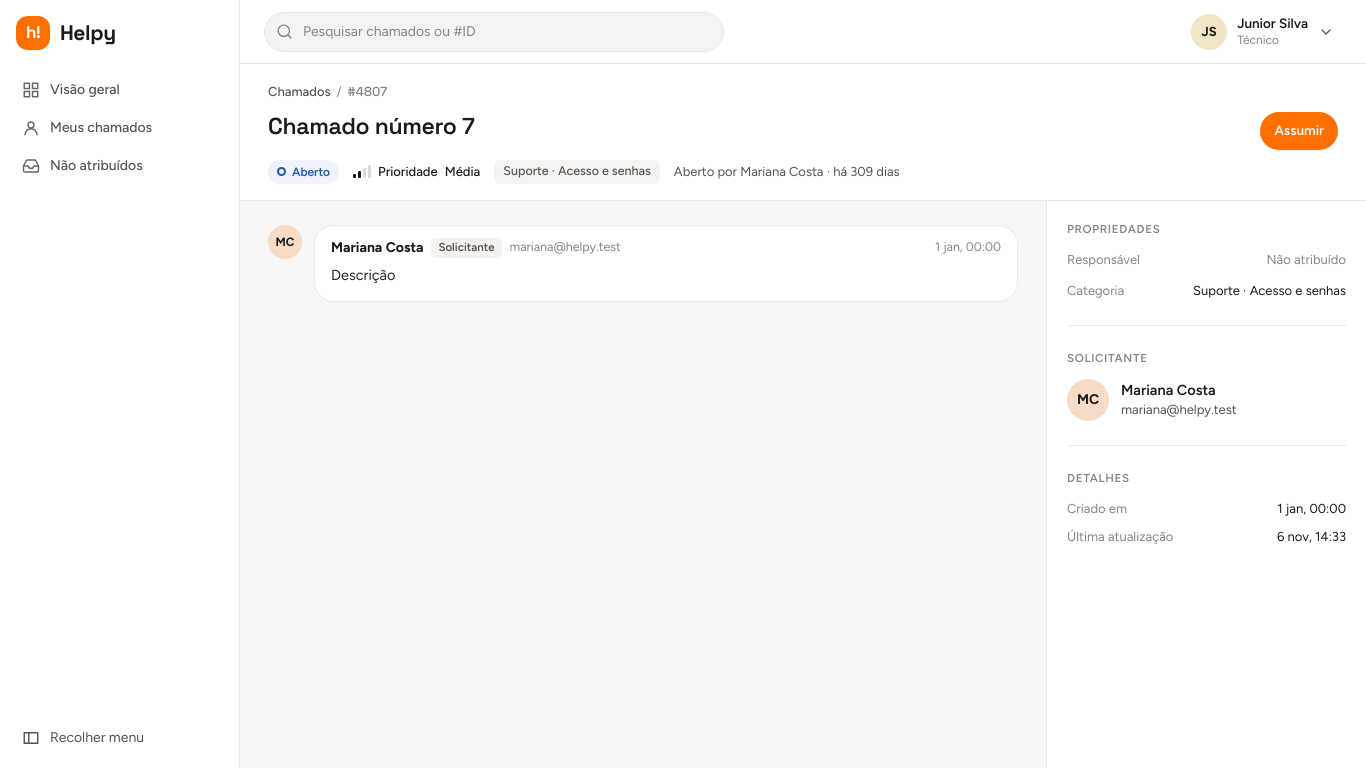
Test case: ticket actions › Assumir sends one request even on a double click and then shows the ticket as IN_PROGRESS and mine
Double-click the button "Assumir".
double_click(1299, 130)  # box x1=1260 y1=112 x2=1338 y2=150
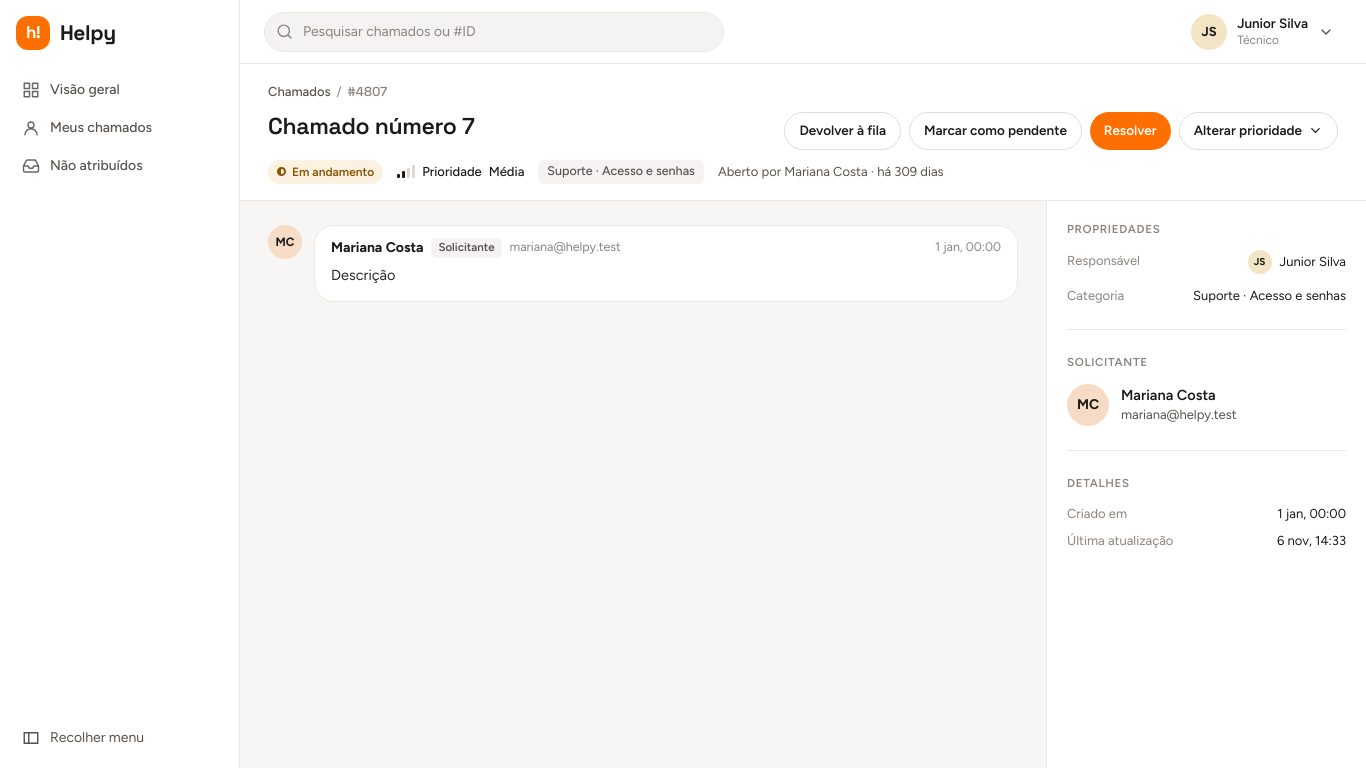
Check: the text "Junior Silva" is shown, box x1=1280 y1=254 x2=1346 y2=269
